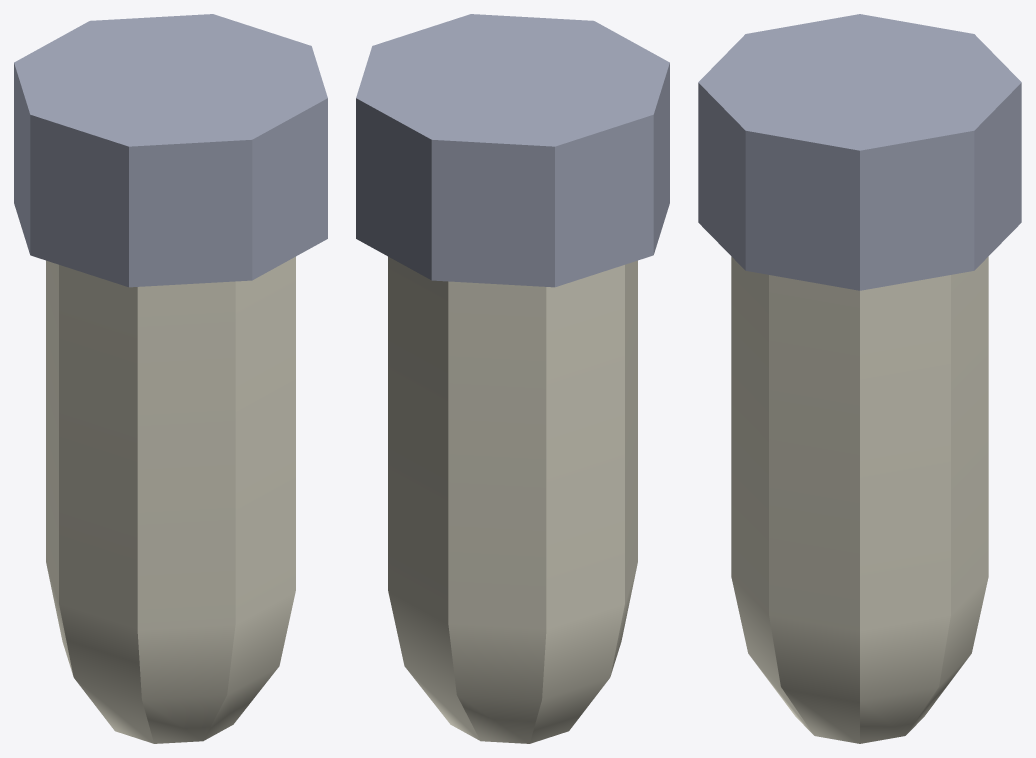
The model's file is small-test-tube.fbx.
The picture shows the model from 3 angles, left to right: view 1: azimuth 30°, elevation 25°; view 2: azimuth 150°, elevation 25°; view 3: azimuth 270°, elevation 25°; orthographic projection.
Parts seen in each view (by area): view 1: small_test_tube; view 2: small_test_tube; view 3: small_test_tube.
Part boxes in pixels (x1=…): small_test_tube: x1=14, y1=14, x2=327, y2=743; small_test_tube: x1=356, y1=14, x2=669, y2=743; small_test_tube: x1=698, y1=14, x2=1021, y2=743.
Bounding box in the file's own units: 3.44 × 7.69 × 3.44.
